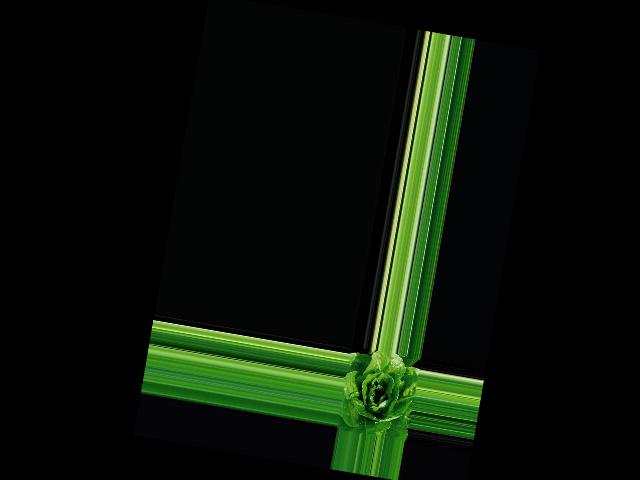lettuce: (339, 350, 421, 440)
